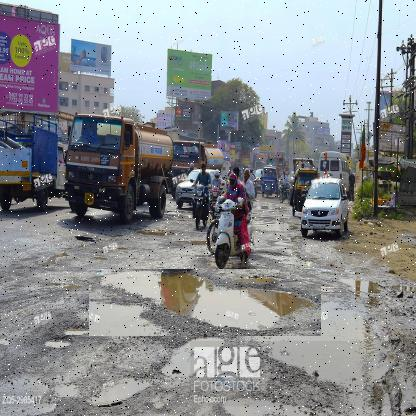pothole_water: (89, 270, 322, 338)
